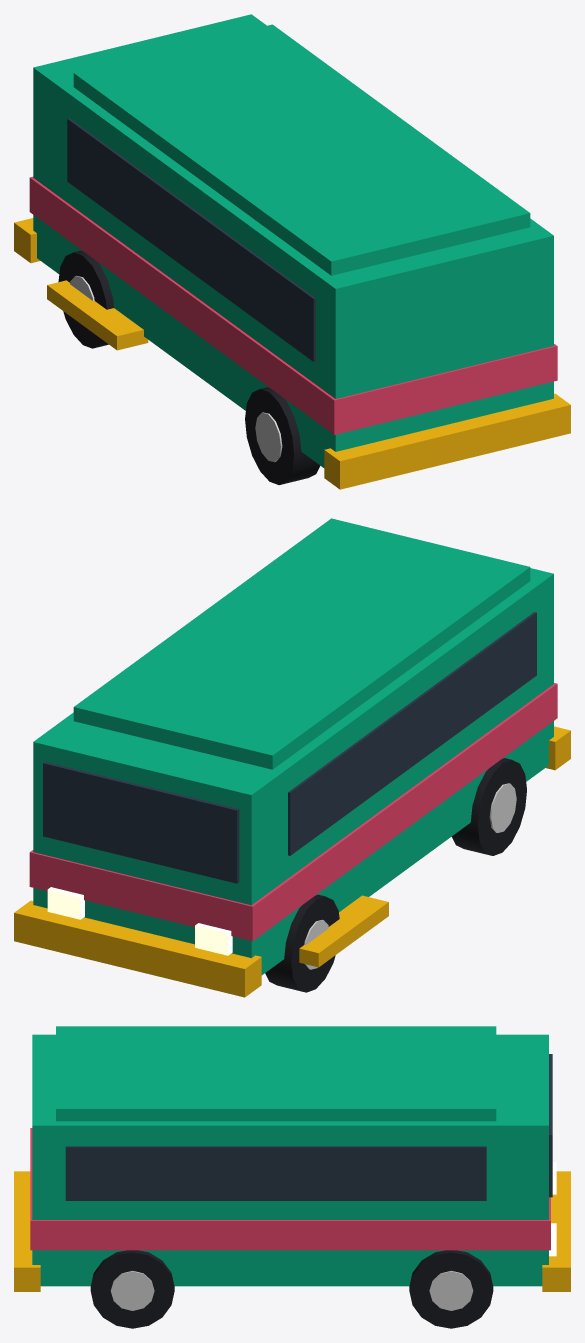
File: murir_tin_bus.glb
3 views of the same model, one above another, from view 1: azimuth 30°, elevation 25°; view 2: azimuth 150°, elevation 25°; view 3: azimuth 270°, elevation 25° (orthographic). The views are drawn at different scales.
Visible parts, largest first — view 1: murir_tin_bus; view 2: murir_tin_bus; view 3: murir_tin_bus.
Boxes of the visible parts, x1,y1,x2,y2 form: murir_tin_bus: (14, 14, 570, 489); murir_tin_bus: (14, 518, 570, 997); murir_tin_bus: (14, 1026, 570, 1328).
Bounding box in the file's own units: 2.62 × 2.45 × 5.82.
